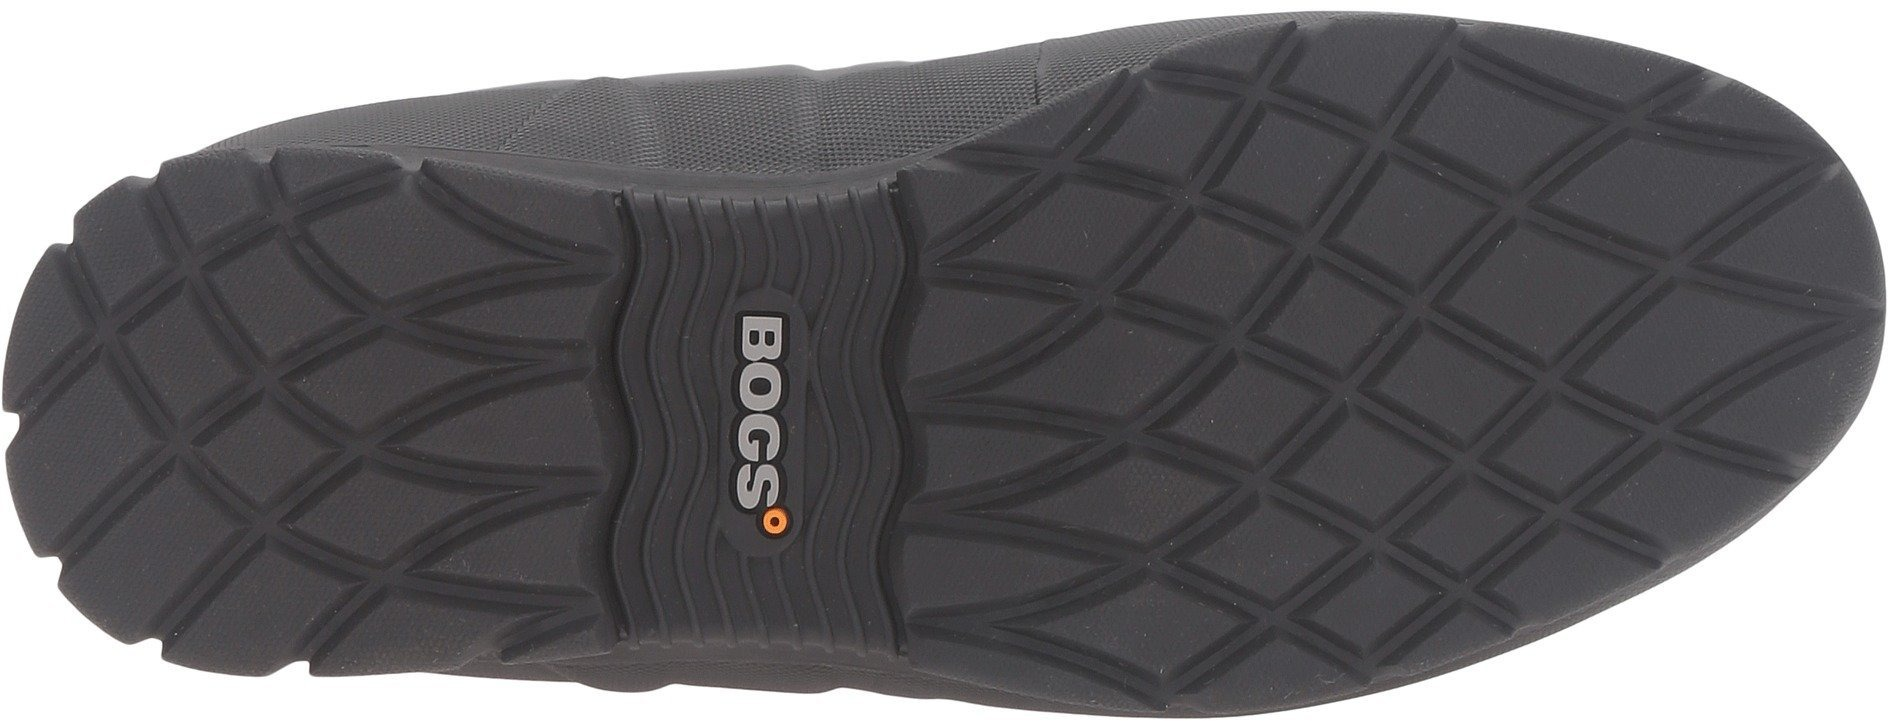circle: (721, 289, 806, 543)
line: (618, 197, 905, 320)
quad: (945, 42, 1393, 642), (1379, 52, 1810, 649), (222, 194, 571, 632)
text: (721, 289, 806, 543)
